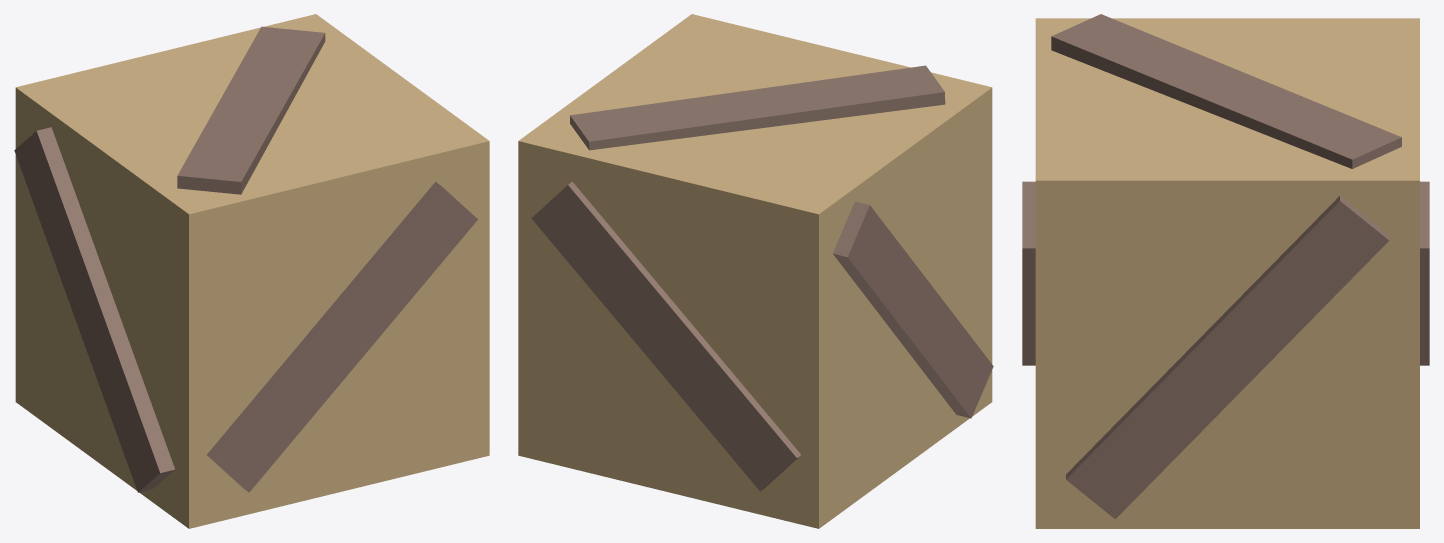
Rendered from skrszyneczkaDrewno.fbx.
3 views of the same model, side by side, from view 1: azimuth 30°, elevation 25°; view 2: azimuth 150°, elevation 25°; view 3: azimuth 270°, elevation 25° (orthographic). The views are drawn at different scales.
Parts seen in each view (by area): view 1: Cube, Cube.005, Cube.002, Cube.003; view 2: Cube, Cube.006, Cube.003, Cube.002; view 3: Cube, Cube.001, Cube.003, Cube.005, Cube.006.
Boxes of the visible parts, x1=… form: Cube: x1=15, y1=14, x2=489, y2=528; Cube.005: x1=207, y1=182, x2=477, y2=492; Cube.002: x1=14, y1=127, x2=174, y2=492; Cube.003: x1=177, y1=26, x2=325, y2=194; Cube: x1=518, y1=14, x2=992, y2=528; Cube.006: x1=531, y1=182, x2=800, y2=491; Cube.003: x1=570, y1=65, x2=945, y2=150; Cube.002: x1=833, y1=201, x2=993, y2=418; Cube: x1=1035, y1=18, x2=1419, y2=528; Cube.001: x1=1066, y1=196, x2=1389, y2=519; Cube.003: x1=1051, y1=14, x2=1401, y2=168; Cube.005: x1=1022, y1=181, x2=1035, y2=365; Cube.006: x1=1420, y1=181, x2=1429, y2=365.
Size of the model in its own units: 292 by 285 by 286.
